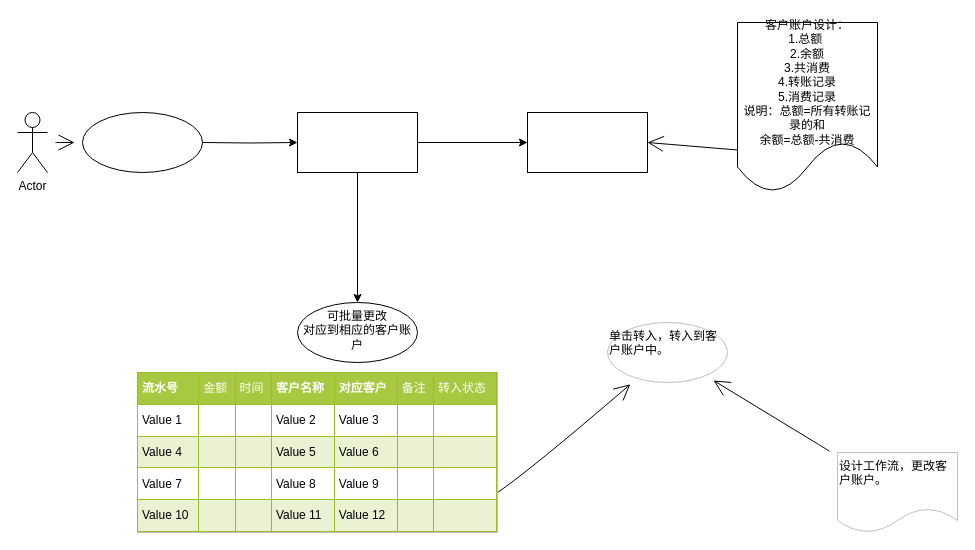
The diagram is 975 pixels wide and 550 high, and some of its shapes have lost their labels. Each missing label, with the box of its shape:
上传银行流水。通过excel上传。: (82, 112, 202, 172)
客户账户: (526, 112, 648, 172)
银行流水: (296, 112, 418, 172)
